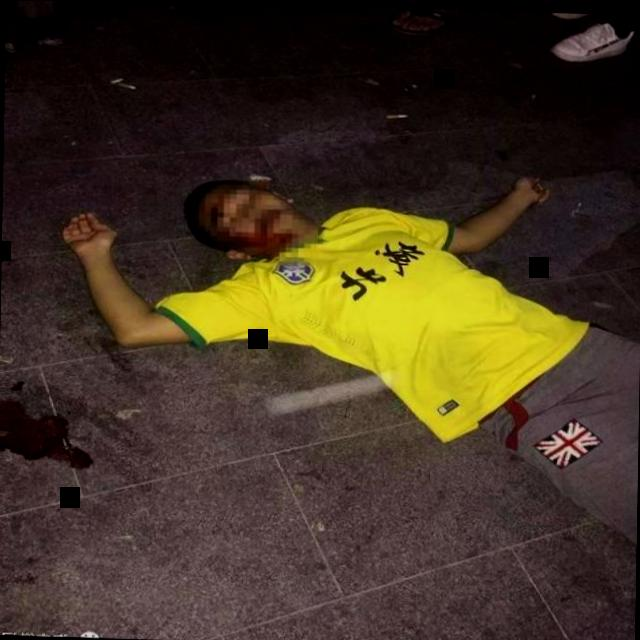Fall-Detected: (27, 108, 640, 562)
